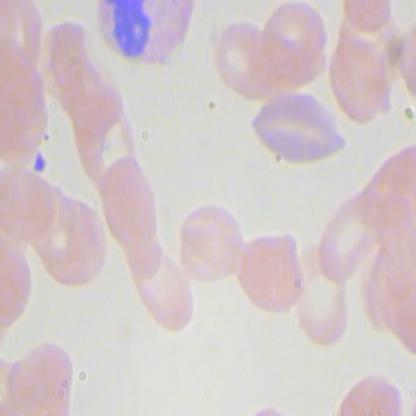Platelets: (30, 150, 50, 174)
RBC: (244, 90, 350, 170), (320, 23, 392, 126), (286, 241, 354, 345), (70, 88, 140, 186), (99, 154, 167, 248), (127, 250, 198, 330), (212, 17, 283, 97), (176, 202, 246, 282), (0, 161, 66, 245), (261, 0, 331, 78), (239, 231, 306, 311), (4, 338, 76, 410), (0, 0, 49, 75), (335, 365, 405, 415), (391, 133, 415, 213), (391, 276, 415, 356)
WBC: (93, 0, 197, 75)
